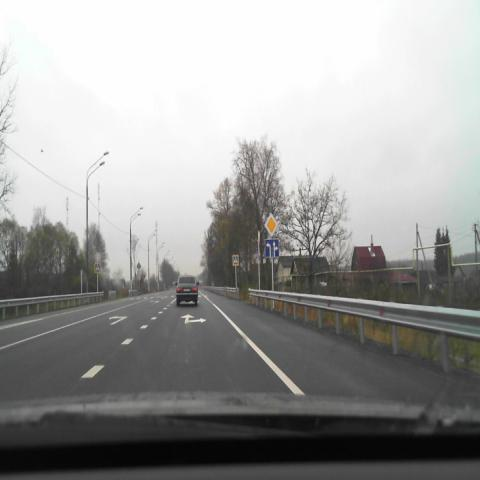2_1: (264, 213, 278, 237)
5_15_2_2: (265, 239, 279, 257)
